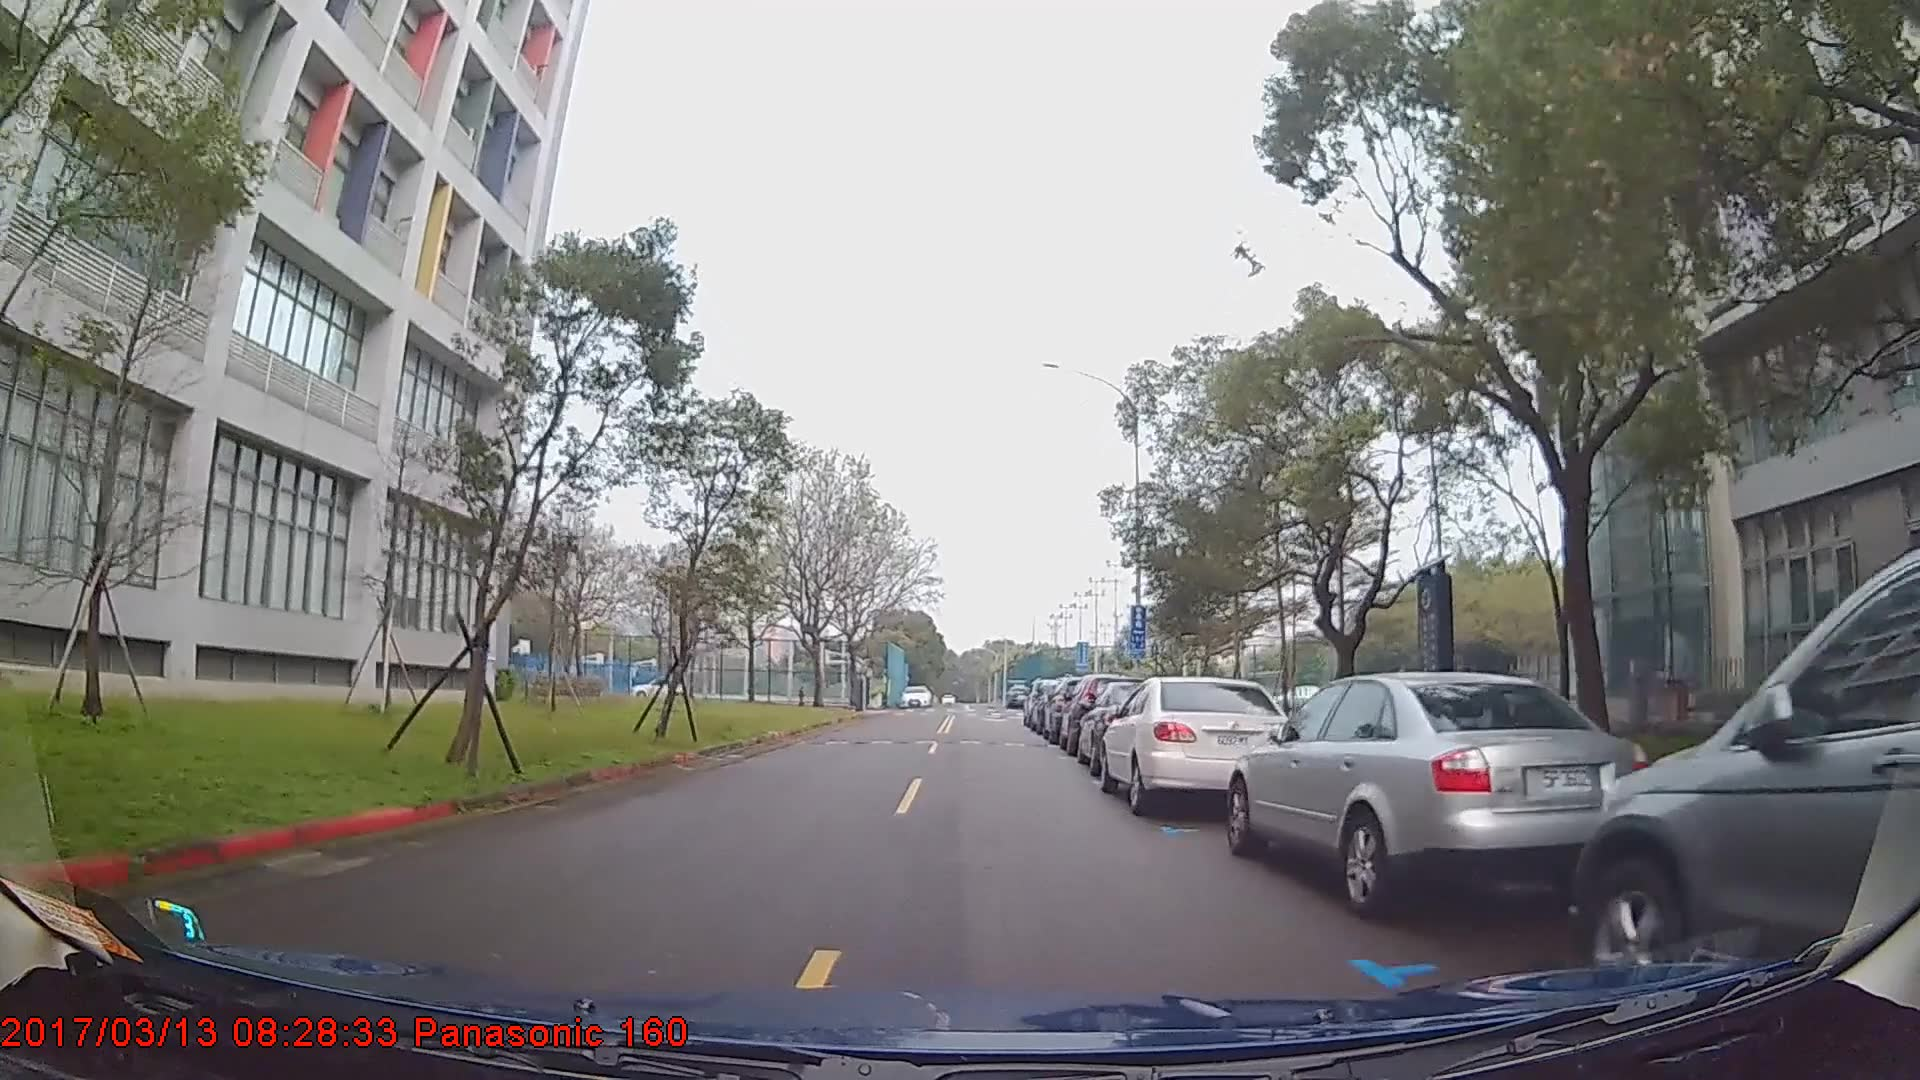vehicle: (1575, 550, 1919, 1022), (1222, 671, 1648, 920), (1098, 675, 1302, 818), (899, 684, 931, 705)
